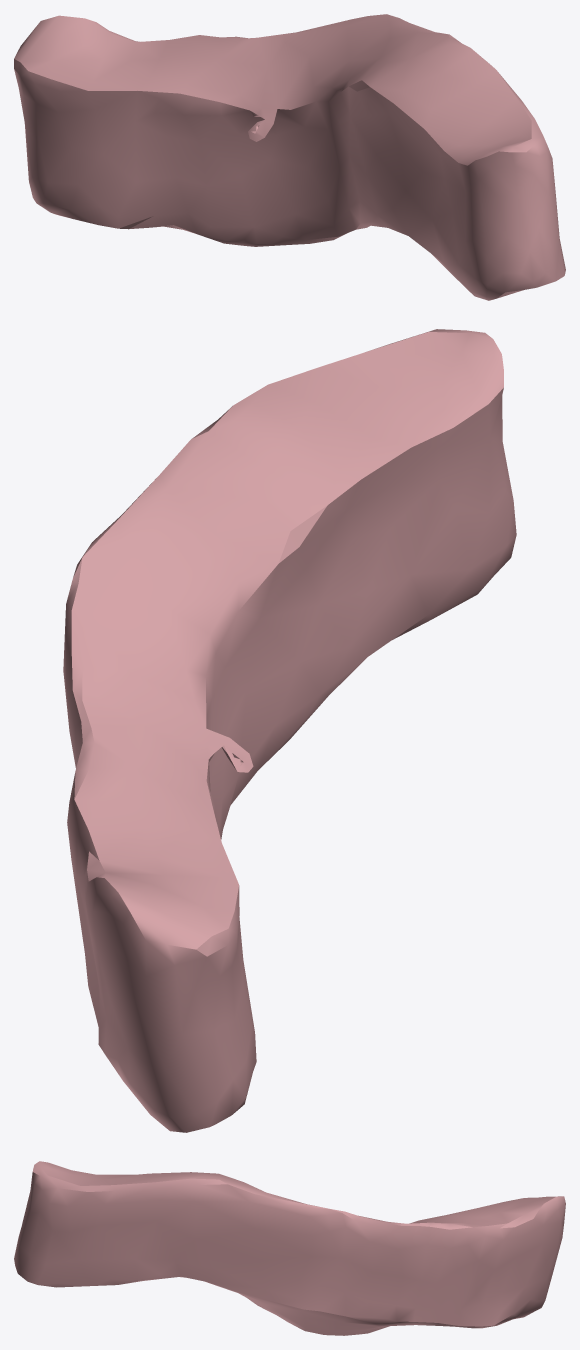
Rendered from fma275373-f_mm3367m.glb.
3 renders of one model, top to bottom at view 1: azimuth 30°, elevation 25°; view 2: azimuth 150°, elevation 25°; view 3: azimuth 270°, elevation 25°, orthographic. The views are drawn at different scales.
Parts seen in each view (by area): view 1: FMA275373-F_MM3367M; view 2: FMA275373-F_MM3367M; view 3: FMA275373-F_MM3367M.
Boxes of the visible parts, <box> form: FMA275373-F_MM3367M: <box>14,14,565,300</box>; FMA275373-F_MM3367M: <box>63,329,516,1132</box>; FMA275373-F_MM3367M: <box>14,1161,565,1335</box>.
Bounding box in the file's own units: 0.00884 × 0.00946 × 0.0234.
